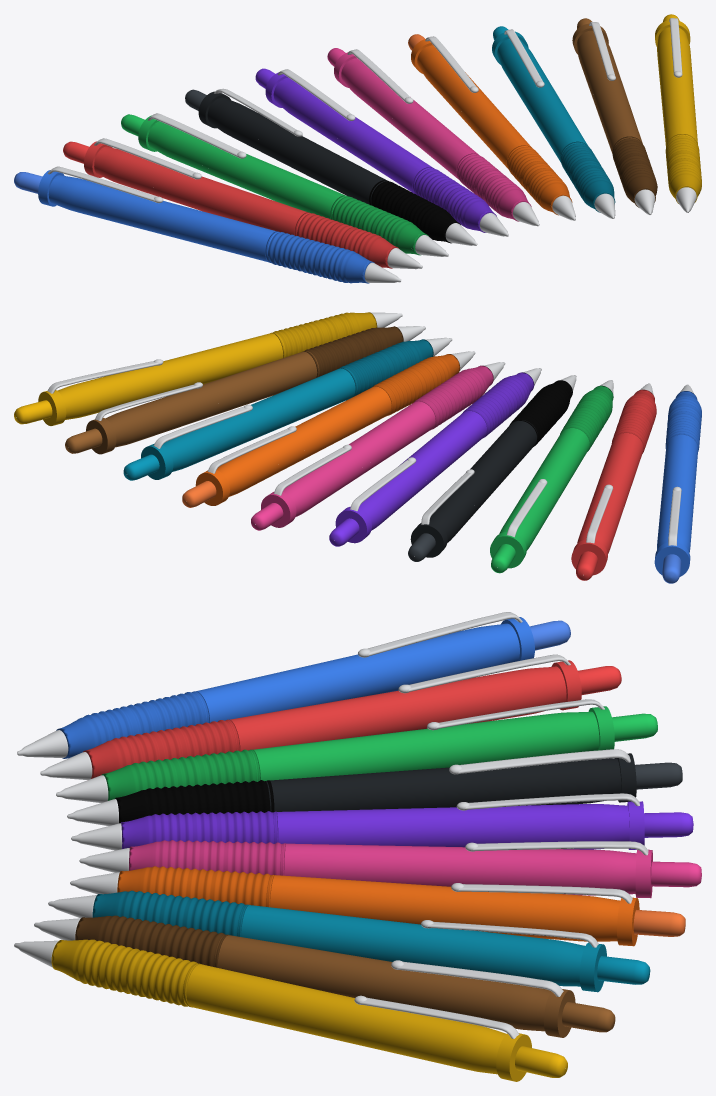
File: smooth-gel-pen-set.glb
3 renders of one model, top to bottom at view 1: azimuth 30°, elevation 25°; view 2: azimuth 150°, elevation 25°; view 3: azimuth 270°, elevation 25°, orthographic. The views are drawn at different scales.
Visible parts, largest first — view 1: pen-barrel (×10), pen-grip (×10), pen-clip (×10), pen-tip (×7), pen-button, pen-collar; view 2: pen-barrel (×10), pen-grip (×10), pen-collar (×10), pen-clip (×10), pen-button (×10); view 3: pen-barrel (×10), pen-grip (×10), pen-clip (×10), pen-button (×10), pen-tip (×8), pen-collar (×7).
Part boxes in pixels (bbox=[...]): pen-barrel (×10): bbox=[48, 27, 697, 262]; pen-grip (×10): bbox=[265, 134, 701, 283]; pen-clip (×10): bbox=[47, 18, 682, 203]; pen-tip (×7): bbox=[364, 195, 575, 282]; pen-button: bbox=[14, 172, 42, 193]; pen-collar: bbox=[38, 170, 64, 206]; pen-barrel (×10): bbox=[57, 332, 698, 553]; pen-grip (×10): bbox=[270, 312, 701, 453]; pen-collar (×10): bbox=[38, 390, 690, 576]; pen-clip (×10): bbox=[47, 359, 681, 545]; pen-button (×10): bbox=[14, 400, 681, 583]; pen-barrel (×10): bbox=[183, 623, 636, 1074]; pen-grip (×10): bbox=[51, 691, 285, 1007]; pen-clip (×10): bbox=[354, 612, 648, 1038]; pen-button (×10): bbox=[515, 620, 701, 1077]; pen-tip (×8): bbox=[17, 730, 129, 918]; pen-collar (×7): bbox=[496, 660, 652, 1081].
Bounding box in the file's own units: 0.2456 × 0.0135 × 0.1609.
